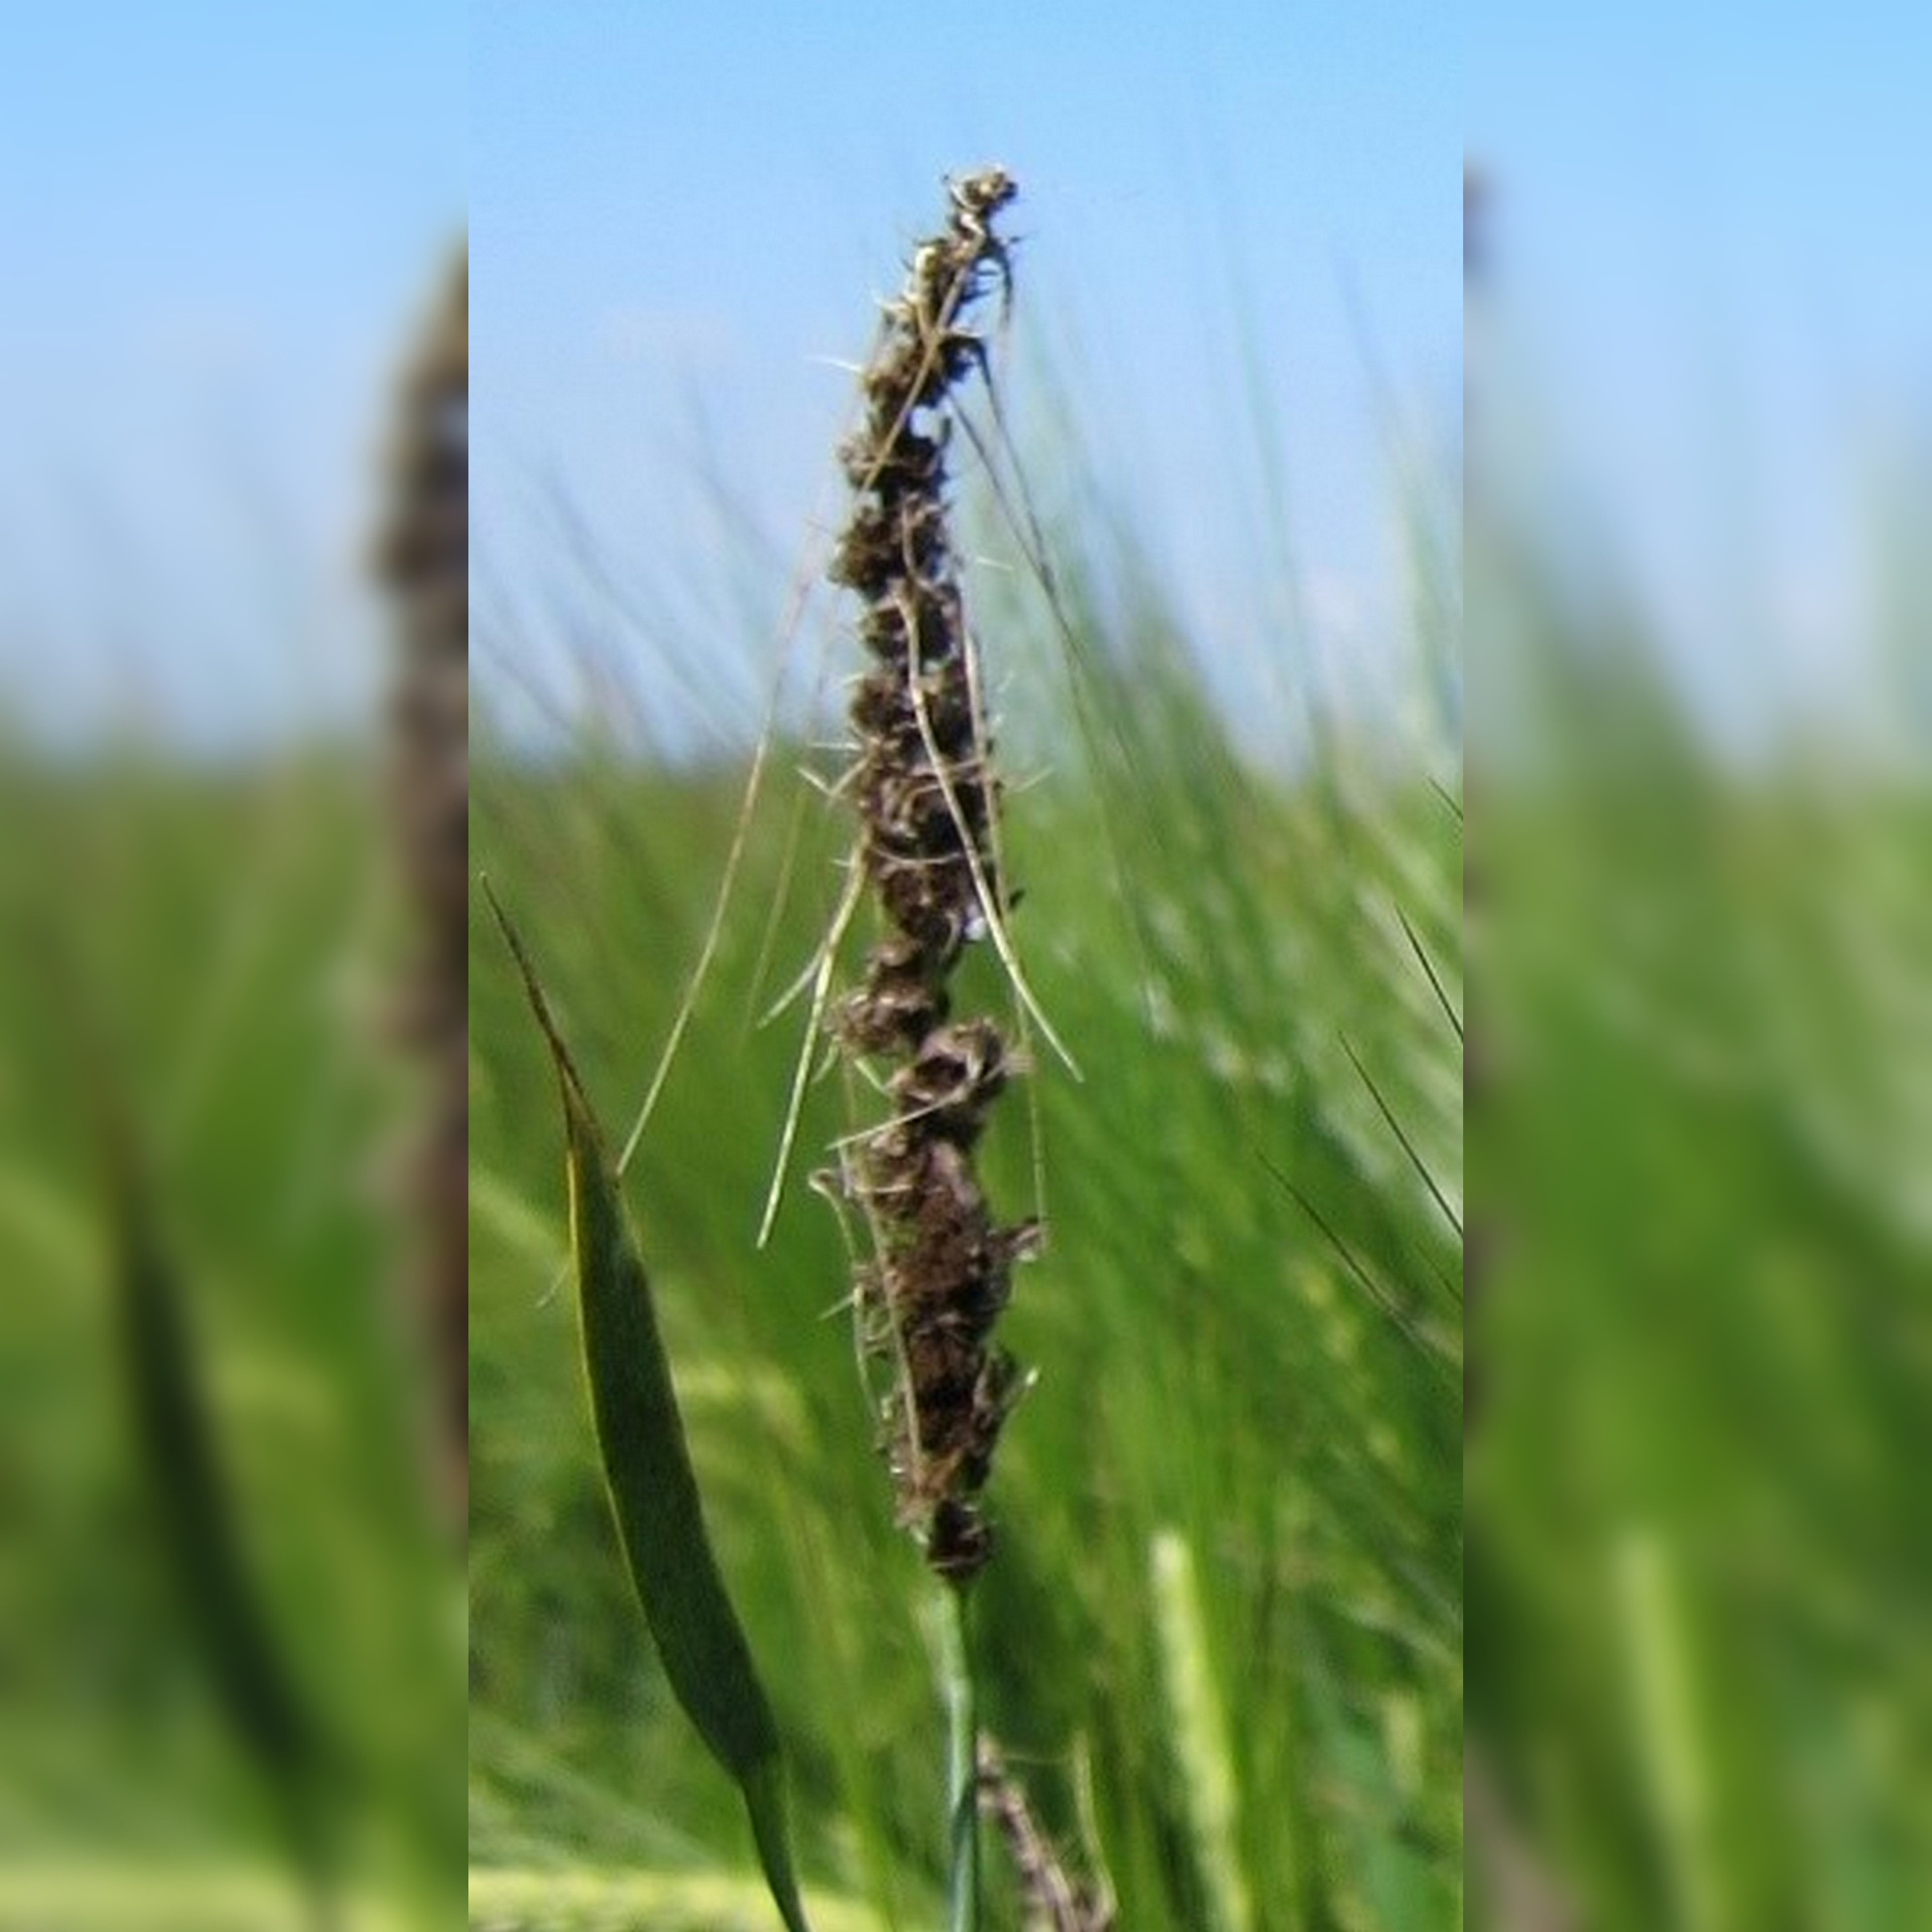Wheat Loose Smut: (780, 161, 1086, 1537)
